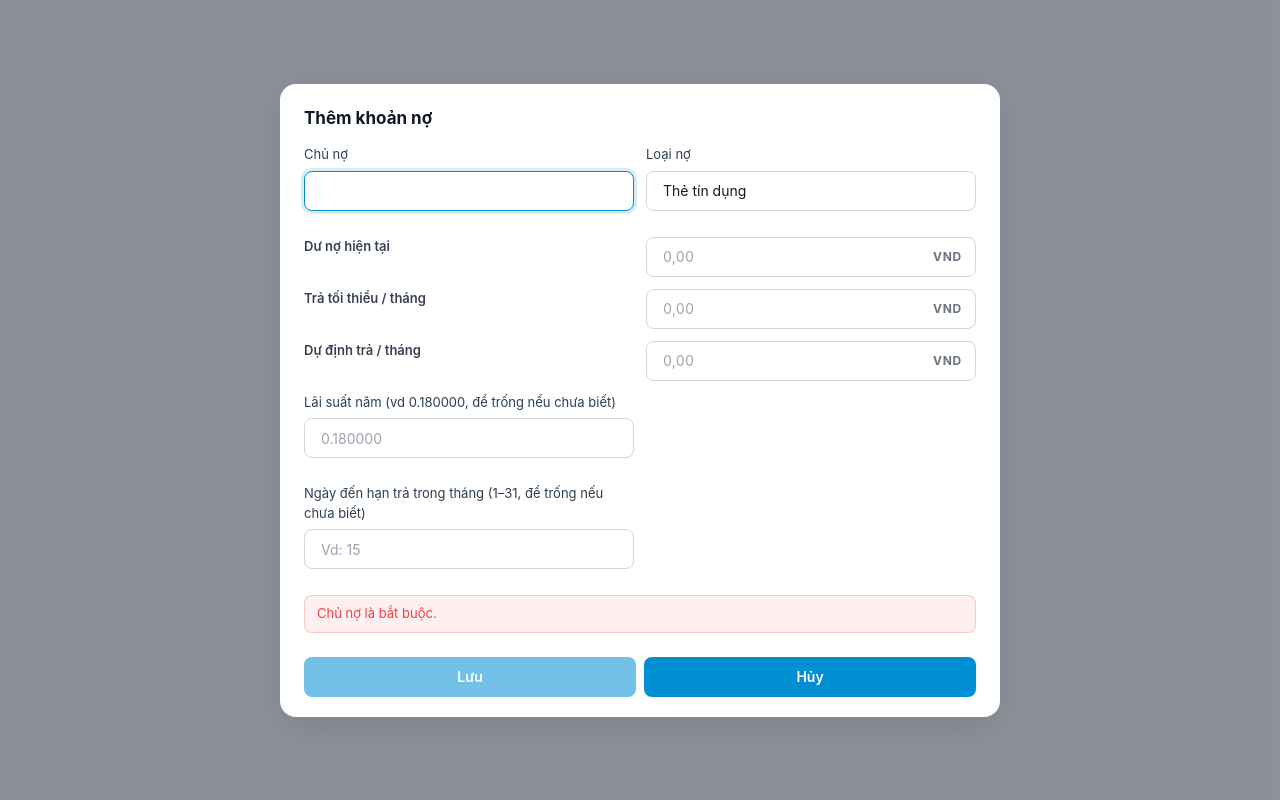
Test: DebtForm › blocks submit when planned is below minimum
Type "Bank" into the field with test id "creditor" at (469, 190), box [304,170,634,210]
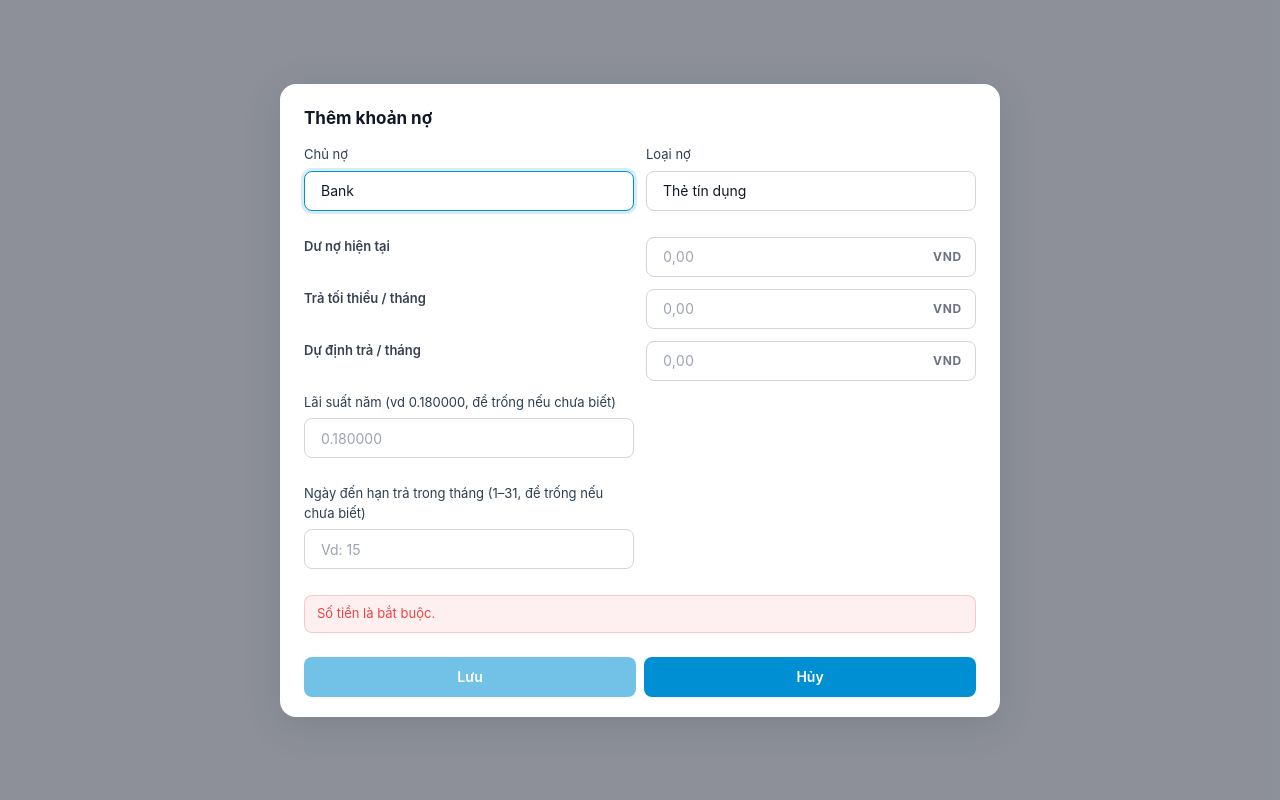
Expected: the submit button is disabled, [304,656,636,696]
Now the text "Số tiền là bắt buộc" is shown, box [317,605,435,621]
